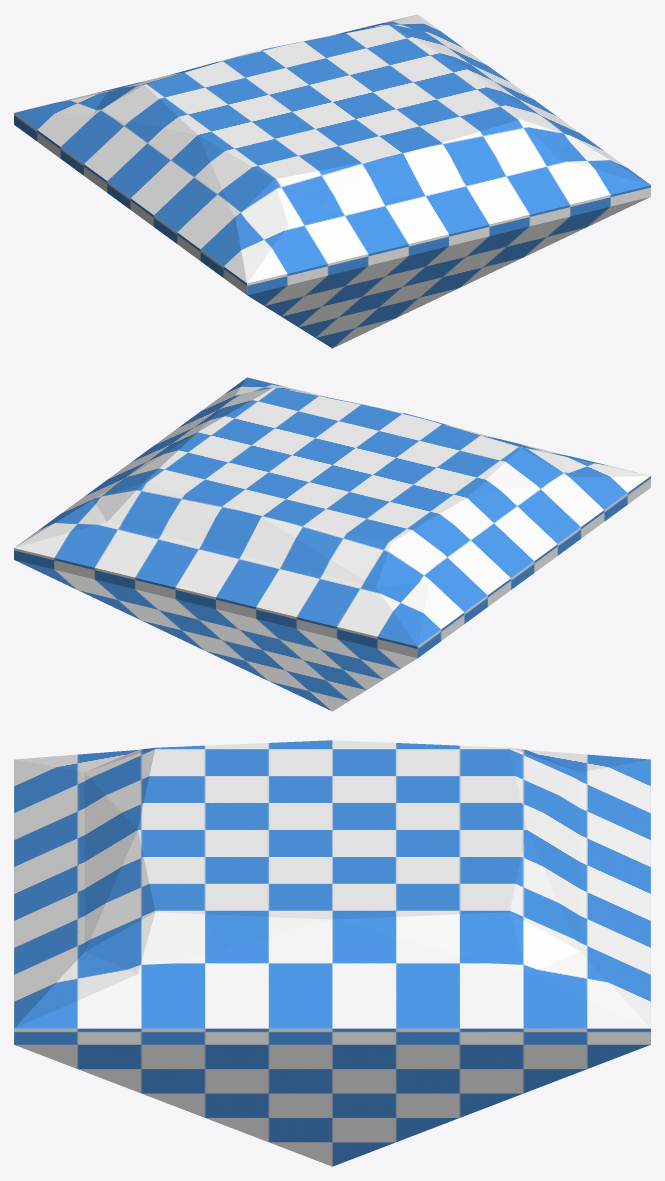
The model's file is PrincessCutPointy.FBX.
The picture shows the model from 3 angles, top to bottom: view 1: azimuth 30°, elevation 25°; view 2: azimuth 150°, elevation 25°; view 3: azimuth 270°, elevation 25°; orthographic projection. The views are drawn at different scales.
Visible parts, largest first — view 1: PrincessCutPointy; view 2: PrincessCutPointy; view 3: PrincessCutPointy.
Part boxes in pixels (x1=…): PrincessCutPointy: x1=14, y1=14, x2=650, y2=348; PrincessCutPointy: x1=14, y1=377, x2=650, y2=711; PrincessCutPointy: x1=14, y1=740, x2=650, y2=1166.
Bounding box in the file's own units: 1.14 × 0.6667 × 1.14.
